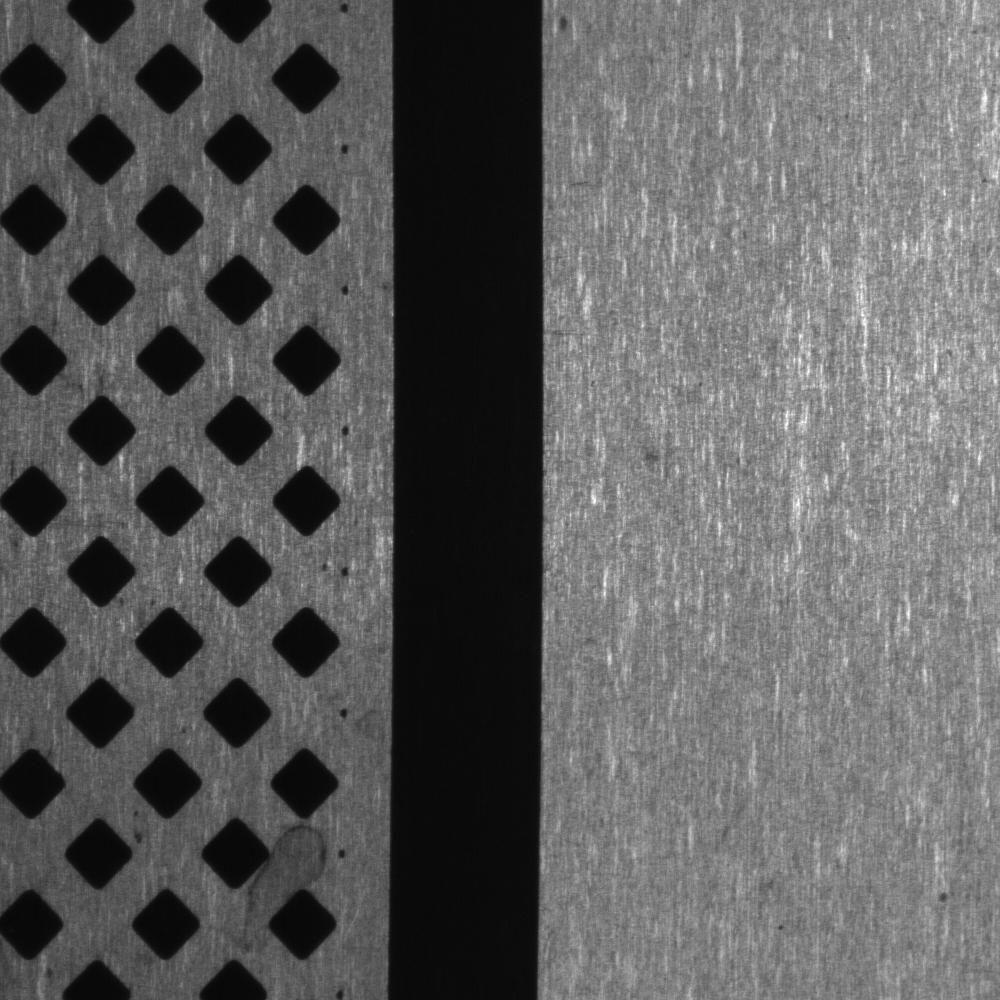Discolor: (238, 813, 337, 960)
Etching: (550, 6, 585, 44), (762, 912, 800, 944)
Pinhole: (923, 876, 961, 920)
